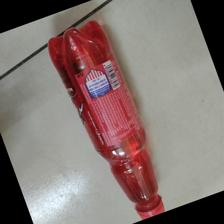Sting: (46, 21, 169, 223)
